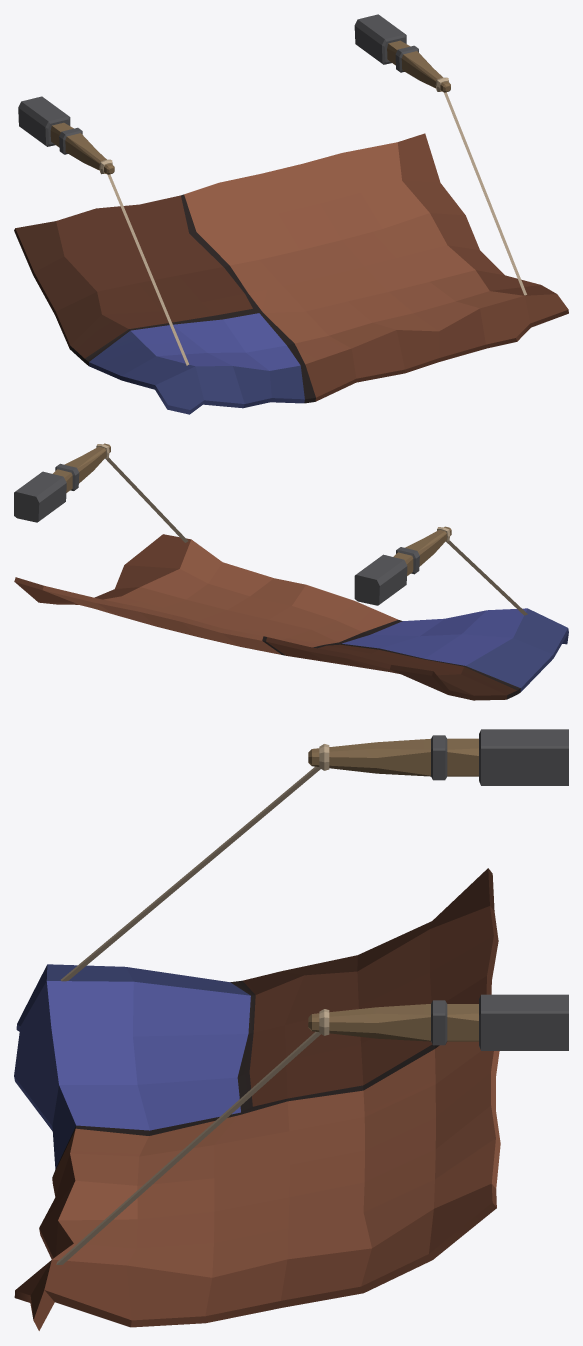
The model's file is SM_Prop_Stall_Cloth_04.glb.
The picture shows the model from 3 angles, top to bottom: view 1: azimuth 30°, elevation 25°; view 2: azimuth 150°, elevation 25°; view 3: azimuth 270°, elevation 25°; orthographic projection. The views are drawn at different scales.
Parts seen in each view (by area): view 1: SM_Prop_Stall_Cloth_04; view 2: SM_Prop_Stall_Cloth_04; view 3: SM_Prop_Stall_Cloth_04.
Boxes of the visible parts, box(x1,y1,x2,y2) form: SM_Prop_Stall_Cloth_04: box(14, 14, 568, 414); SM_Prop_Stall_Cloth_04: box(14, 443, 568, 700); SM_Prop_Stall_Cloth_04: box(14, 729, 568, 1330).
Bounding box in the file's own units: 0.0373 × 0.0181 × 0.0261.
1 material, 1 textured.
